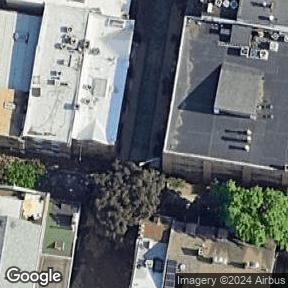vegetation: (0, 131, 193, 254)
